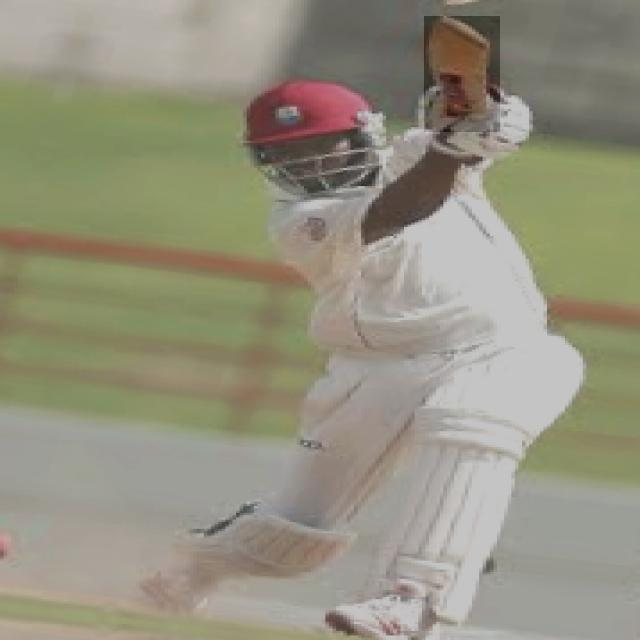bat: (425, 18, 500, 126)
toe: (433, 16, 488, 46)
